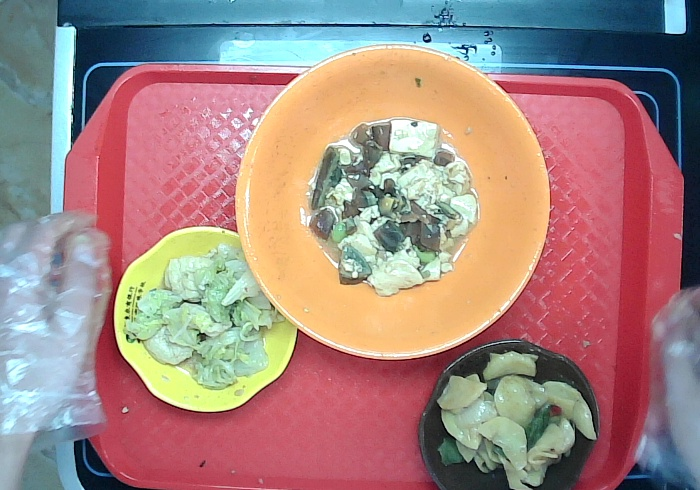YKMZ-Huang_Se_Ao_Bian_Wan: (113, 224, 298, 414)
YKMZ-Ju_Se_Tang_Wan: (232, 41, 553, 361)
YKMZ-Ka_Fei_Ao_Bian_Wan: (415, 337, 604, 490)
